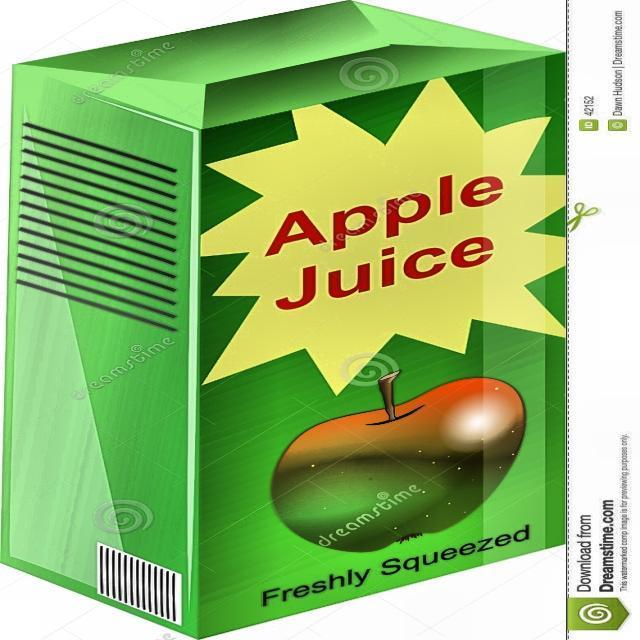cardboard: (2, 1, 568, 638)
